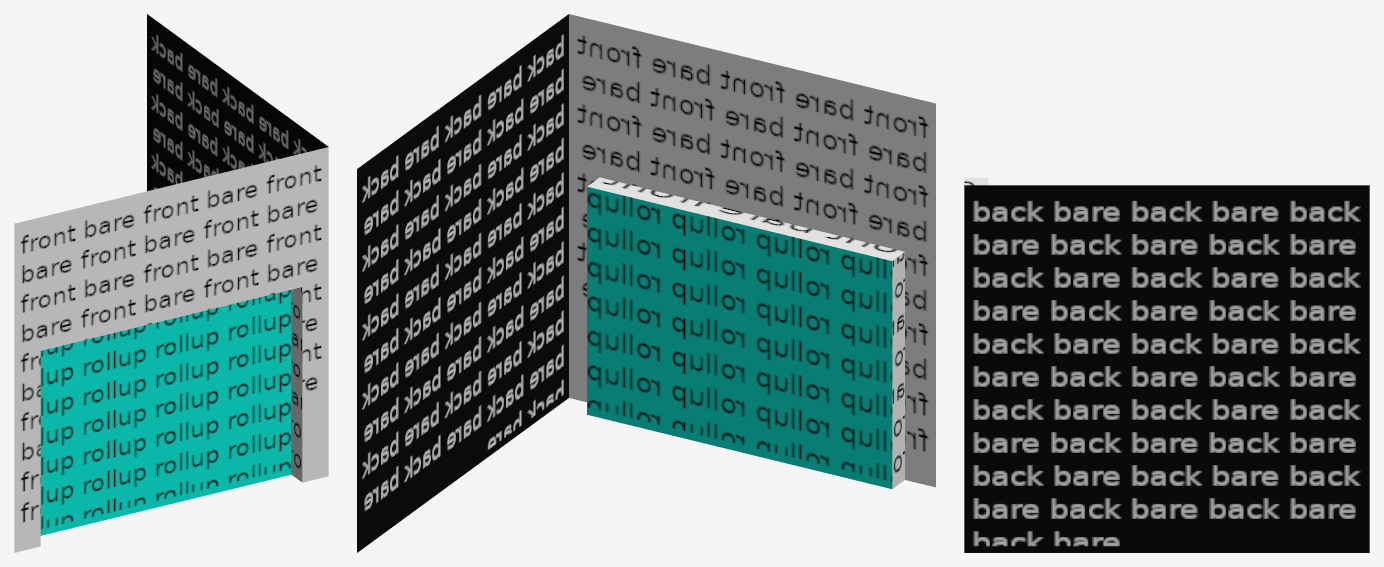
The model's file is right_edge_rollup.gltf.
The picture shows the model from 3 angles, left to right: view 1: azimuth 30°, elevation 25°; view 2: azimuth 150°, elevation 25°; view 3: azimuth 270°, elevation 25°; orthographic projection. The views are drawn at different scales.
Parts seen in each view (by area): view 1: right_edge_rollup; view 2: right_edge_rollup; view 3: right_edge_rollup.
Part boxes in pixels (x1,y1,x2,y2): right_edge_rollup: (14,14,328,552); right_edge_rollup: (357,14,935,552); right_edge_rollup: (964,177,1369,552).
Size of the model in its own units: 5 by 5 by 5.
3 materials, 3 textured.
